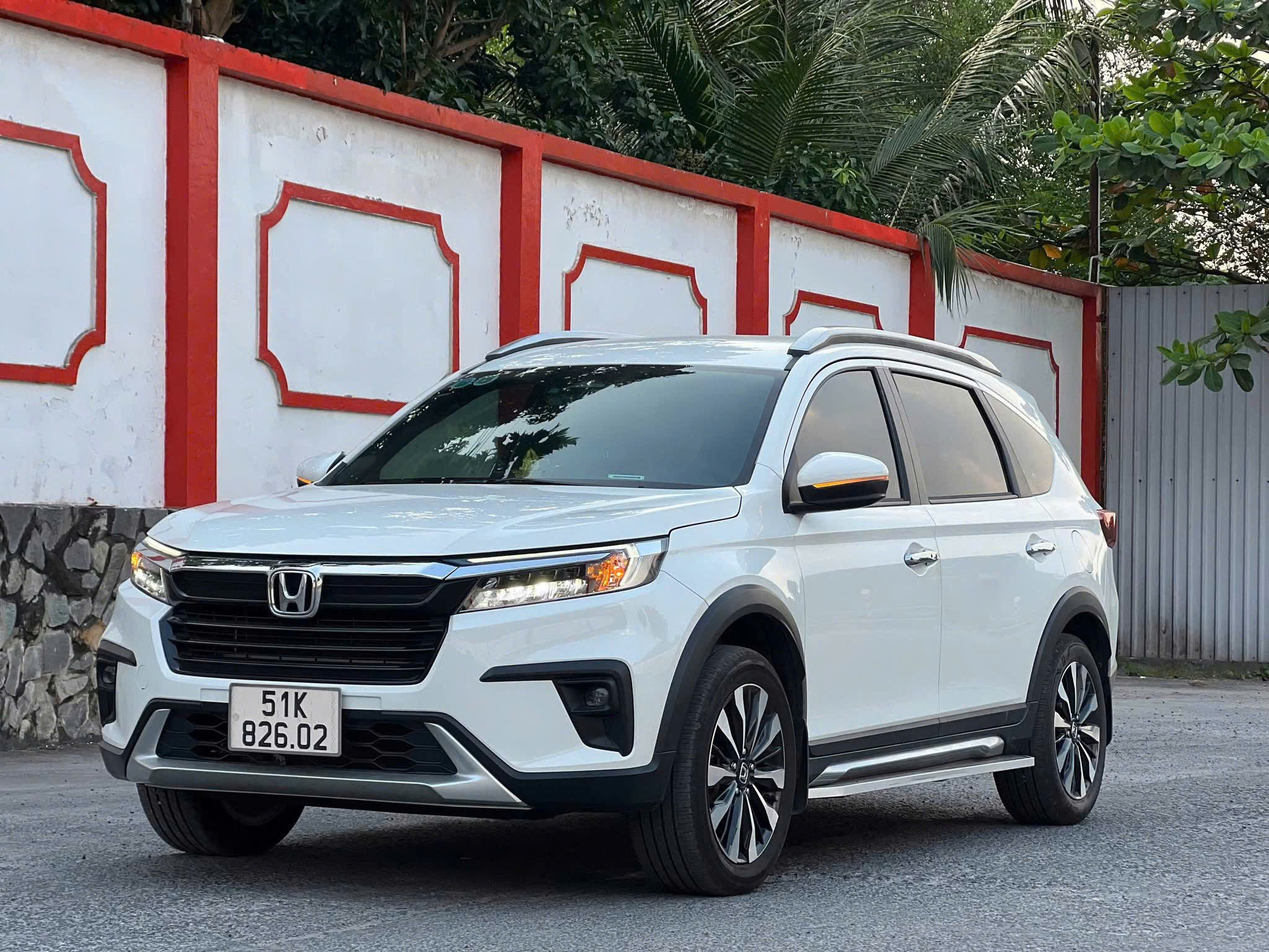Bien-so: (228, 682, 340, 758)
